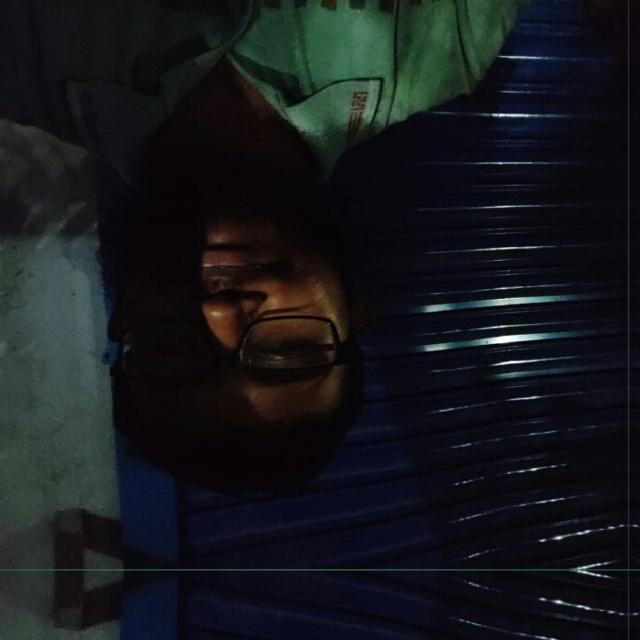Disgust: (93, 154, 375, 494)
